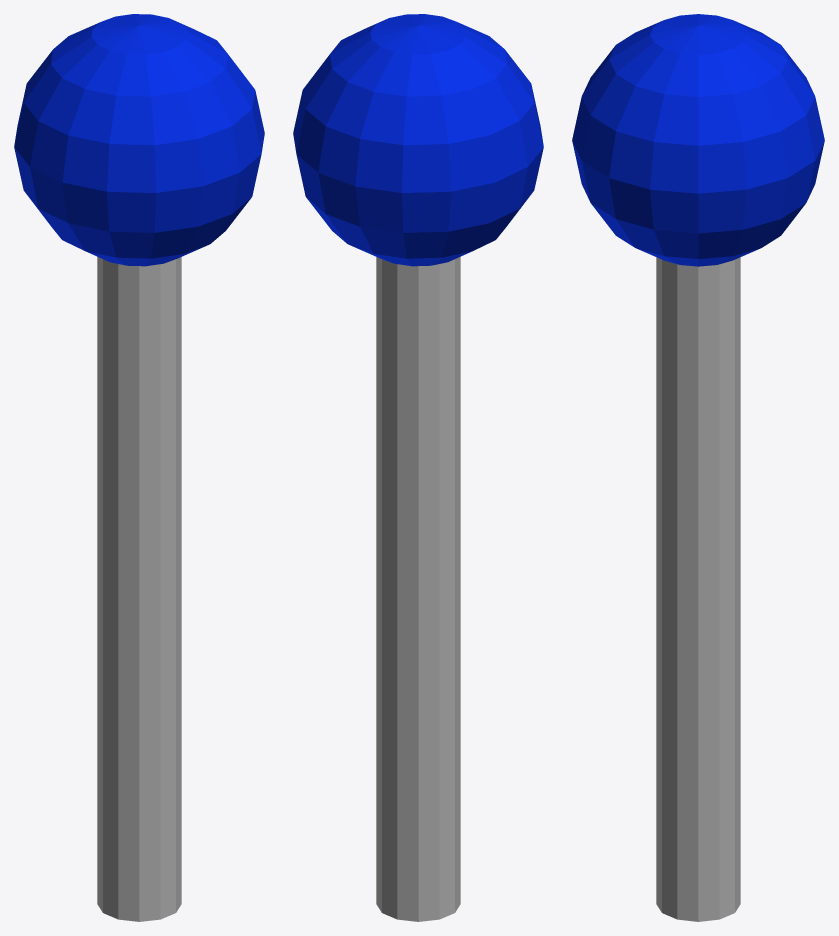
The model's file is pin_blue.glb.
3 renders of one model, left to right at view 1: azimuth 30°, elevation 25°; view 2: azimuth 150°, elevation 25°; view 3: azimuth 270°, elevation 25°, orthographic.
Parts seen in each view (by area): view 1: Cylinder; view 2: Cylinder; view 3: Cylinder.
Boxes of the visible parts, x1,y1,x2,y2 form: Cylinder: [14, 14, 264, 921]; Cylinder: [293, 14, 543, 921]; Cylinder: [572, 14, 824, 921].
Bounding box in the file's own units: 0.6 × 2.3 × 0.6.
